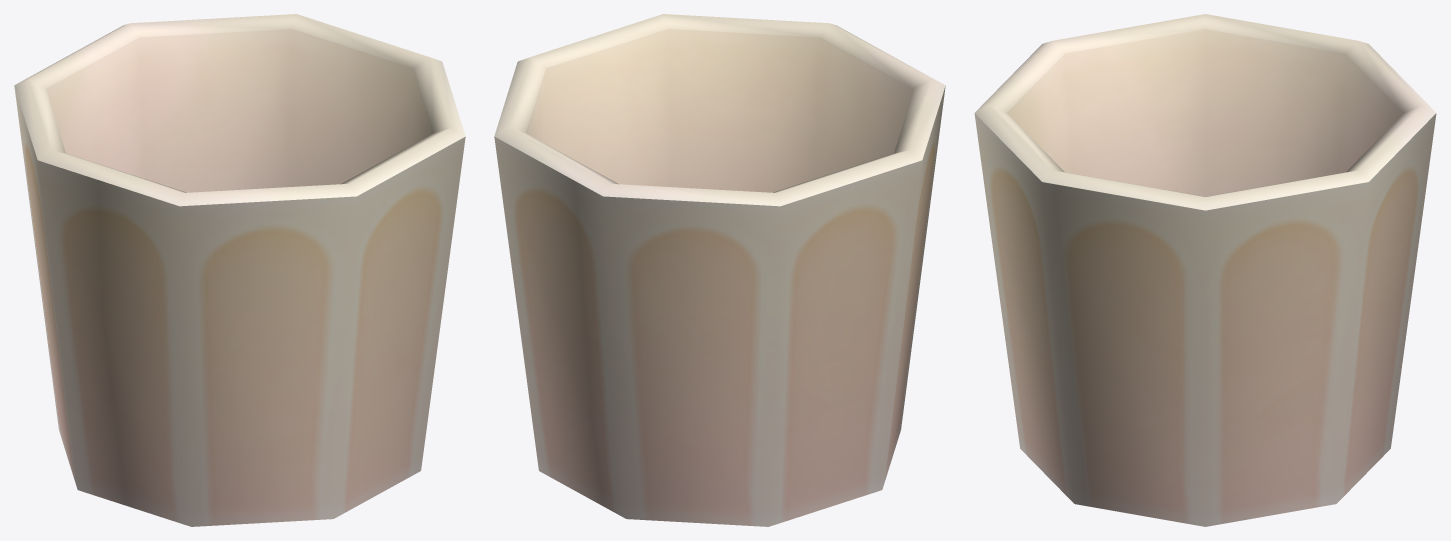
Rendered from SE_Cup_01.fbx.
3 views of the same model, side by side, from view 1: azimuth 30°, elevation 25°; view 2: azimuth 150°, elevation 25°; view 3: azimuth 270°, elevation 25° (orthographic).
Parts seen in each view (by area): view 1: SE_Cup_01; view 2: SE_Cup_01; view 3: SE_Cup_01.
Boxes of the visible parts, <box> form: SE_Cup_01: <box>14,14,465,526</box>; SE_Cup_01: <box>494,14,945,526</box>; SE_Cup_01: <box>974,14,1436,526</box>.
Size of the model in its own units: 0.8878 by 0.7273 by 0.8878.
